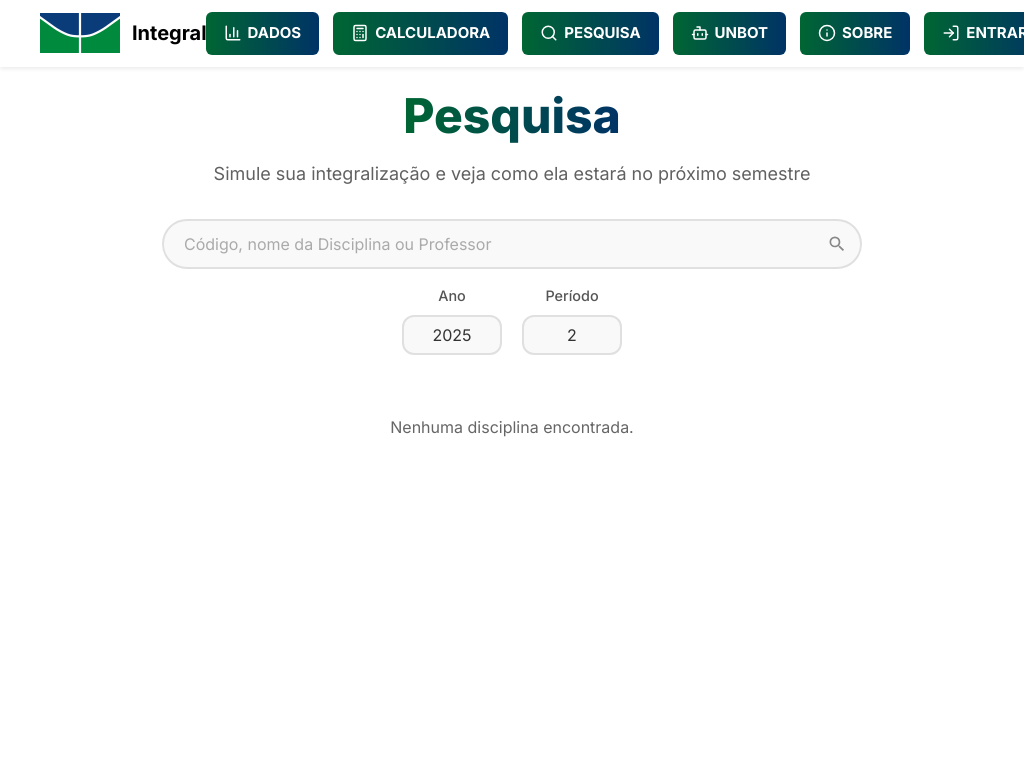
Test: Página de Pesquisa › deve permitir buscar uma disciplina e exibir o resultado
Type "Cálculo" into the field with placeholder "Código, nome da Disciplina ou Professor" at (512, 244), box [162,219,862,269]
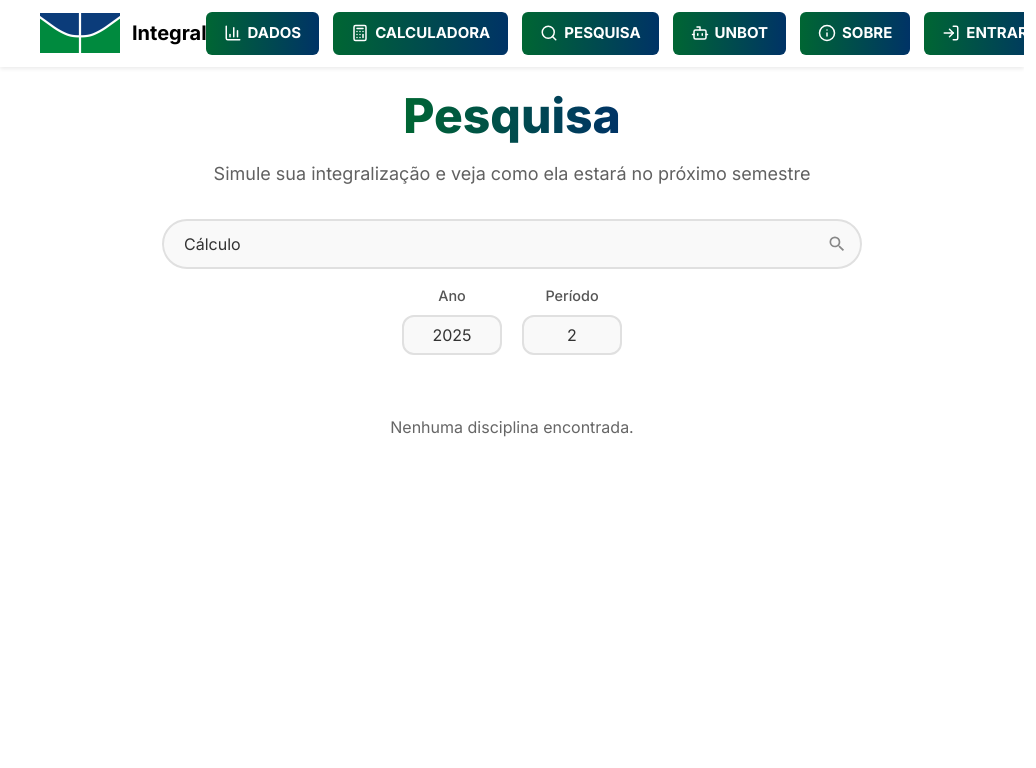
Click the button at (837, 244), box [812,219,862,269]
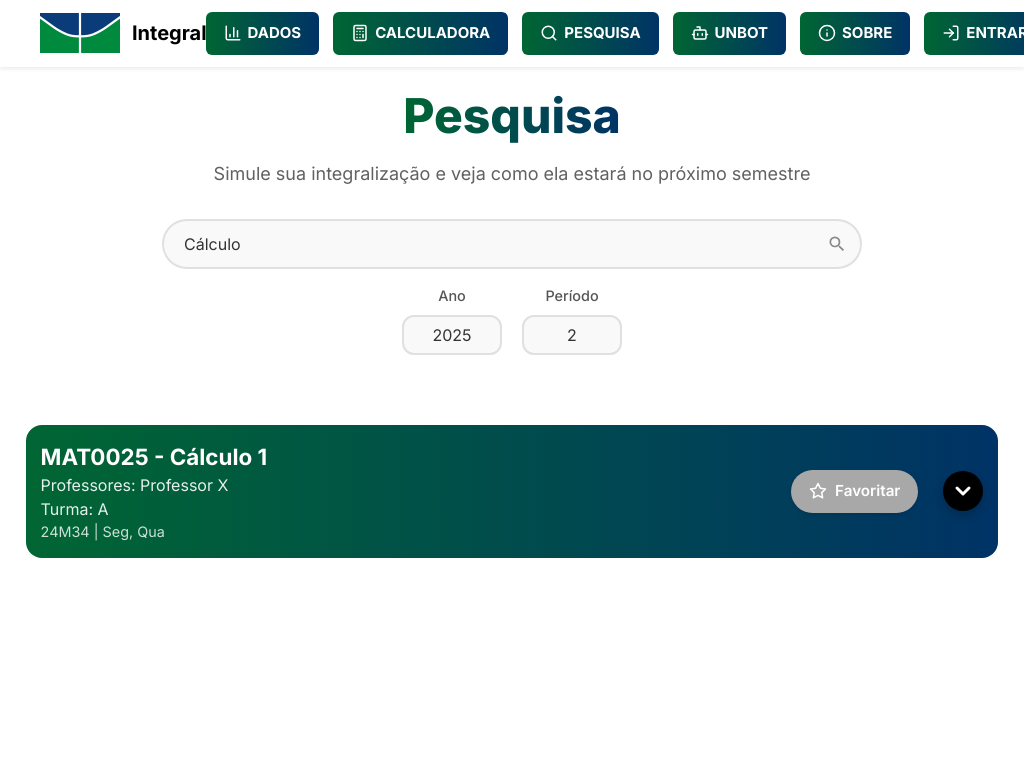
Expected: the text "MAT0025 - Cálculo 1" is shown, [41,440,267,473]
Expected: the text "Professores: Professor X" is shown, [41,475,228,495]
